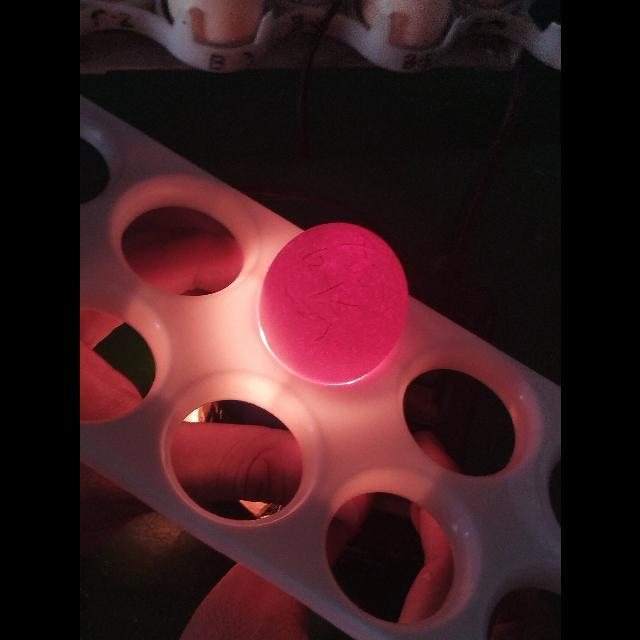Infertile: (255, 217, 410, 385)
